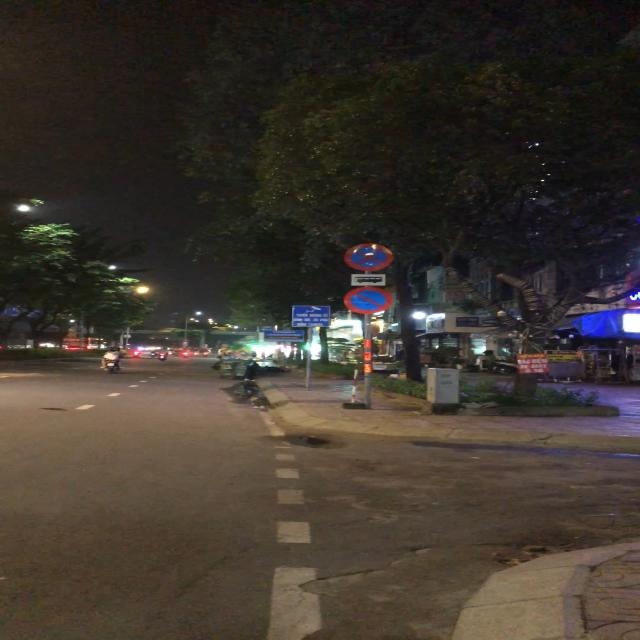Bien bao cam do xe: (344, 286, 393, 315)
Bien bao cam dung xe va do xe: (340, 242, 398, 274)
